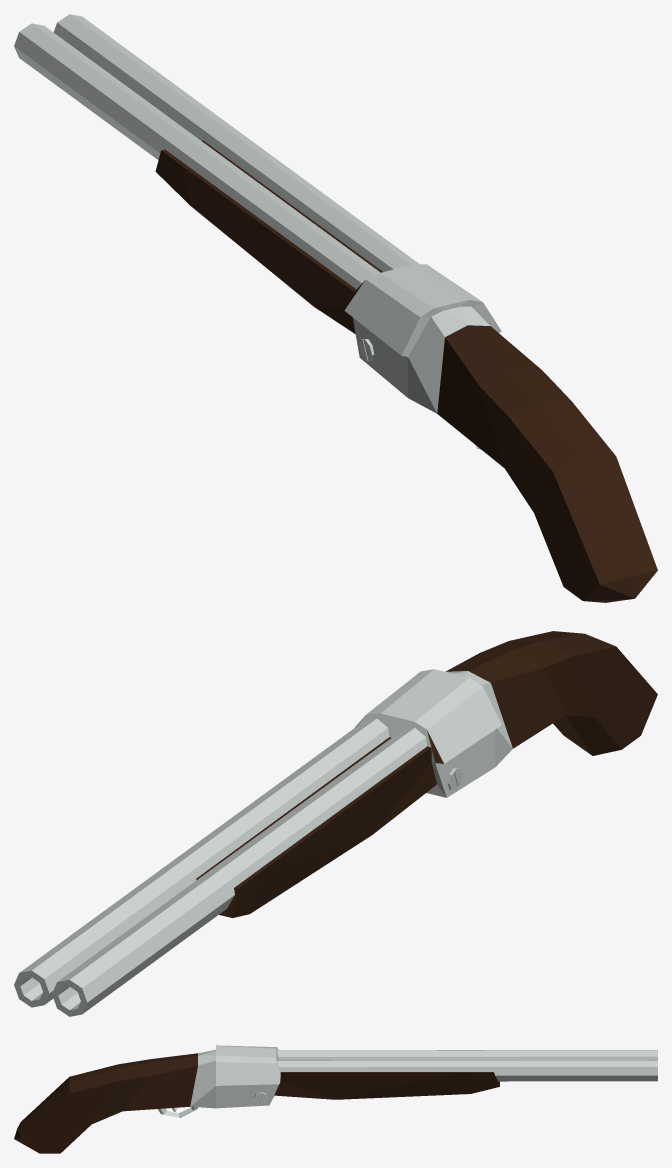
Rendered from Shotgun.fbx.
The picture shows the model from 3 angles, top to bottom: view 1: azimuth 30°, elevation 25°; view 2: azimuth 150°, elevation 25°; view 3: azimuth 270°, elevation 25°; orthographic projection. The views are drawn at different scales.
Visible parts, largest first — view 1: the gun, Cylinder.012, Cylinder.013; view 2: the gun, Cylinder.012, Cylinder.013; view 3: the gun, Cylinder.013, Cylinder.012, trigger guard.
Boxes of the visible parts, box(x1,y1,x2,y2) form: the gun: box(155, 140, 657, 602); Cylinder.012: box(14, 23, 380, 289); Cylinder.013: box(53, 14, 419, 271); the gun: box(196, 631, 657, 917); Cylinder.012: box(52, 727, 426, 1016); Cylinder.013: box(14, 718, 389, 1007); the gun: box(14, 1045, 499, 1153); Cylinder.013: box(277, 1060, 657, 1081); Cylinder.012: box(277, 1050, 657, 1060); trigger guard: box(158, 1107, 197, 1117).
Bounding box in the file's own units: 107 × 188 × 1074.
